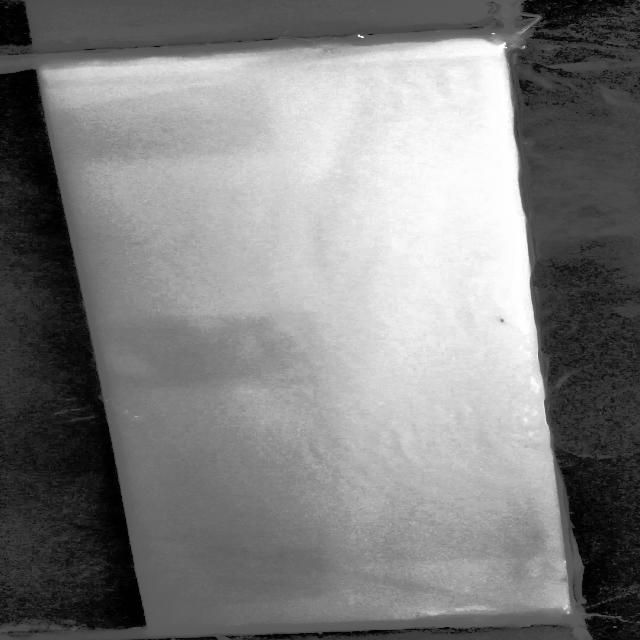shrimp: (486, 312, 510, 328)
